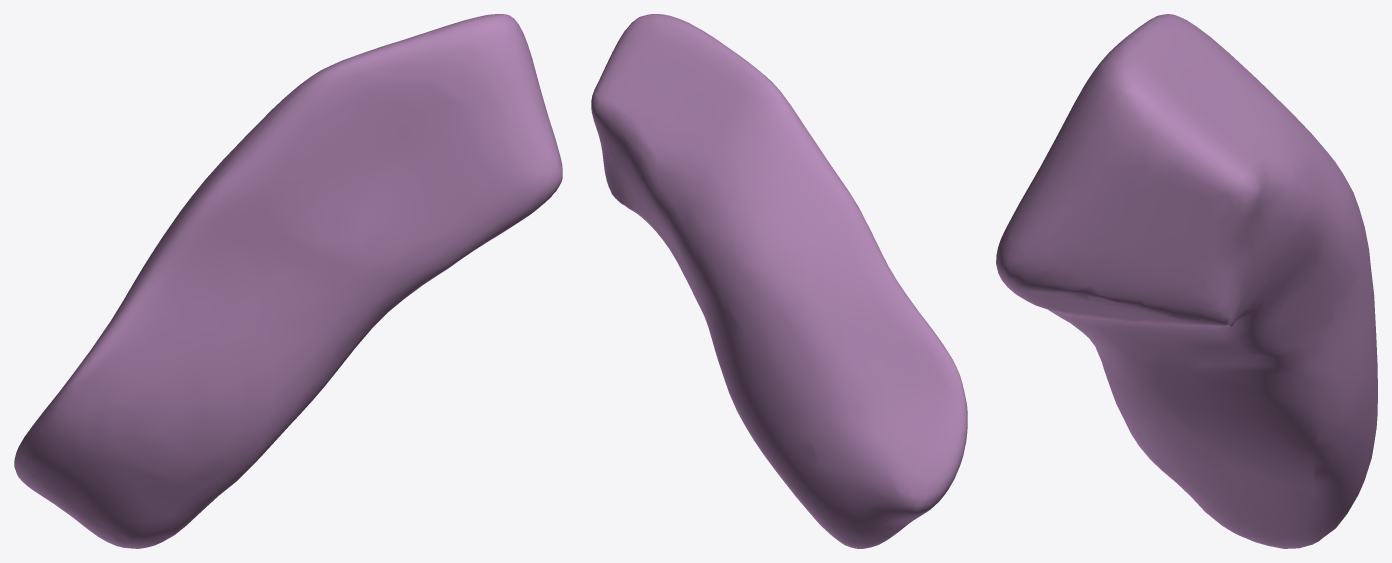
3 renders of one model, left to right at view 1: azimuth 30°, elevation 25°; view 2: azimuth 150°, elevation 25°; view 3: azimuth 270°, elevation 25°, orthographic. The views are drawn at different scales.
Visible parts, largest first — view 1: 右侧后方形小叶; view 2: 右侧后方形小叶; view 3: 右侧后方形小叶.
Part boxes in pixels (left/top/right/bottom): 右侧后方形小叶: left=14, top=14, right=562, bottom=548; 右侧后方形小叶: left=591, top=14, right=967, bottom=548; 右侧后方形小叶: left=996, top=14, right=1377, bottom=548.
Size of the model in its own units: 0.0623 by 0.0664 by 0.0343.
